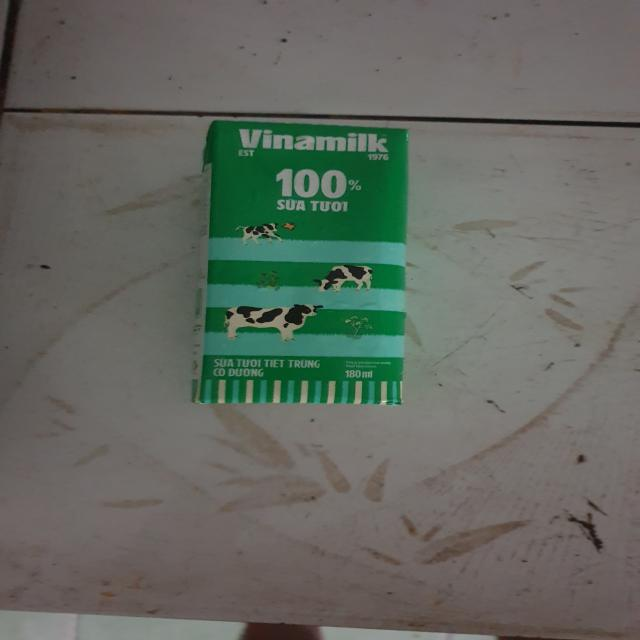Vina: (193, 122, 410, 409)
